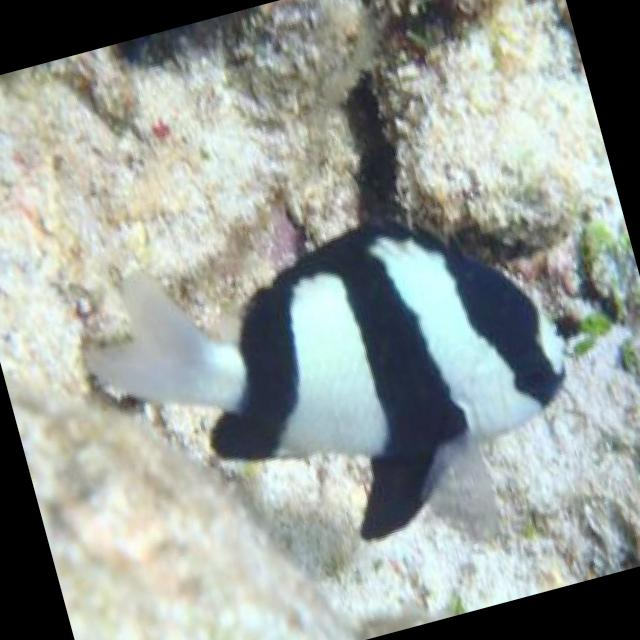Three_striped DasmselFish: (74, 160, 605, 598)
